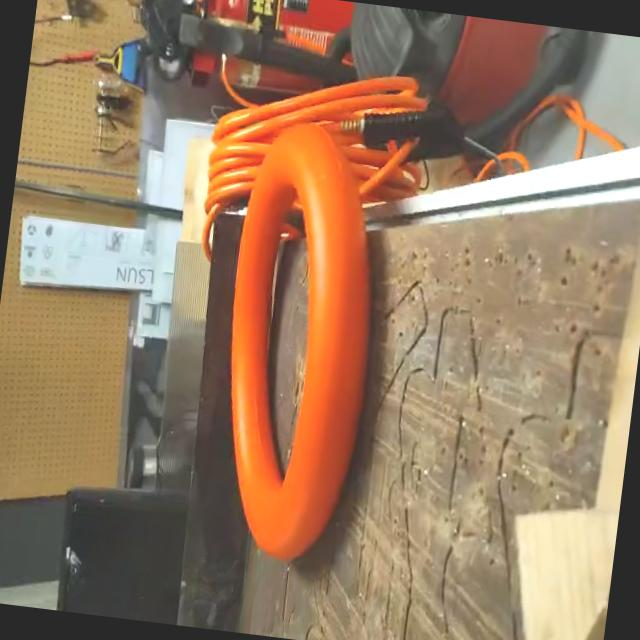note: (199, 116, 403, 568)
